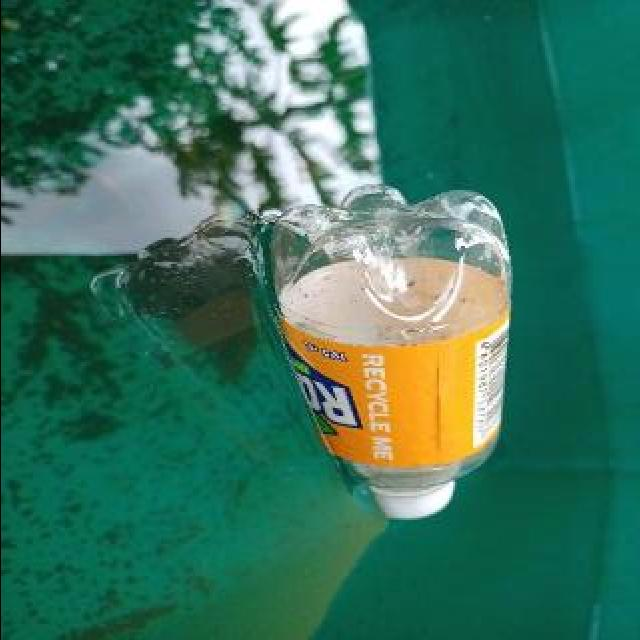Bottle: (252, 175, 518, 534)
